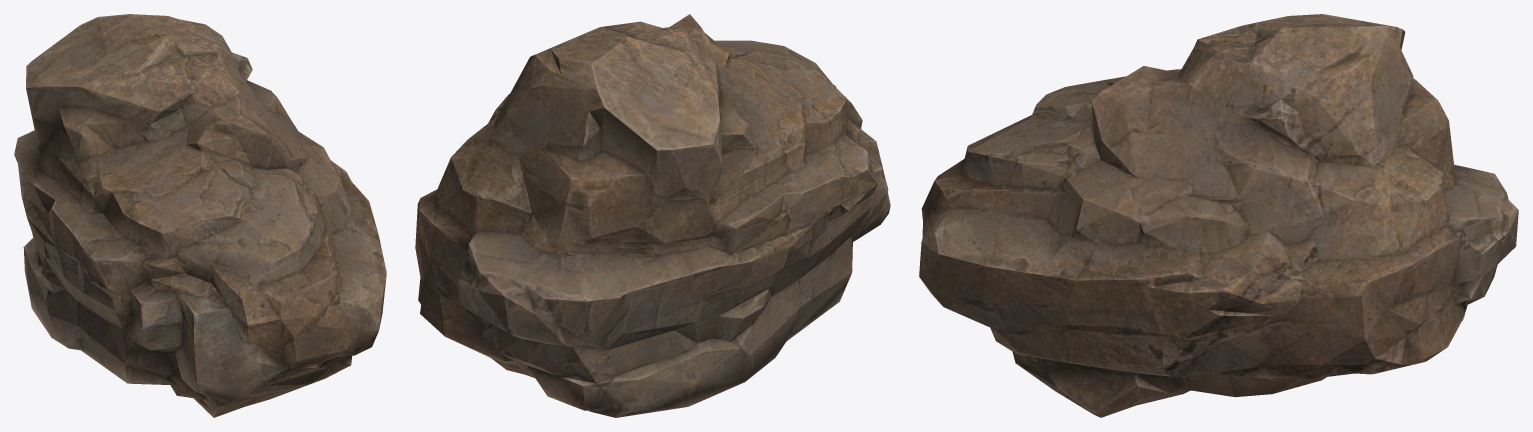
File: stone.FBX
3 renders of one model, left to right at view 1: azimuth 30°, elevation 25°; view 2: azimuth 150°, elevation 25°; view 3: azimuth 270°, elevation 25°, orthographic. The views are drawn at different scales.
Parts seen in each view (by area): view 1: bg_att_stone_dummy01_sm_sup; view 2: bg_att_stone_dummy01_sm_sup; view 3: bg_att_stone_dummy01_sm_sup.
Part boxes in pixels (x1,y1,x2,y2): bg_att_stone_dummy01_sm_sup: (14,14,386,417); bg_att_stone_dummy01_sm_sup: (415,14,890,417); bg_att_stone_dummy01_sm_sup: (919,14,1518,417).
Size of the model in its own units: 137 by 138 by 208.
